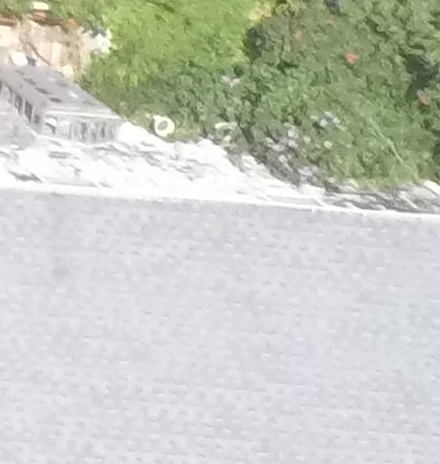container: (145, 106, 178, 138)
